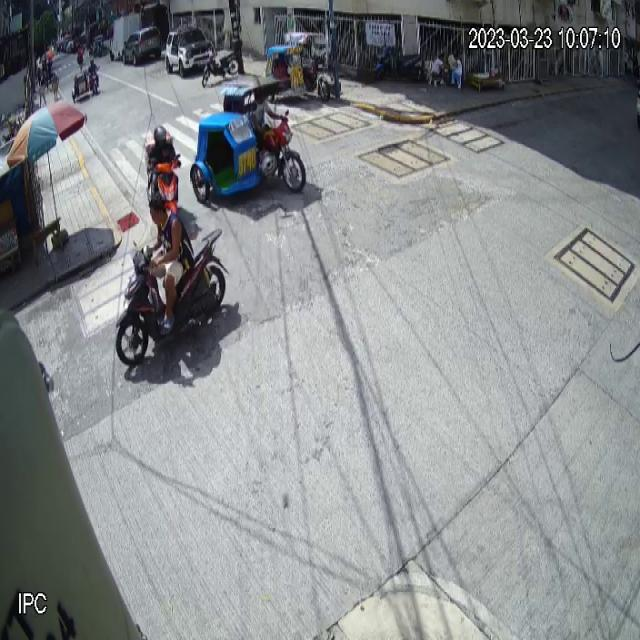Motorcycle: (115, 227, 229, 365), (148, 150, 182, 229)
Tricycle: (190, 75, 306, 204)
